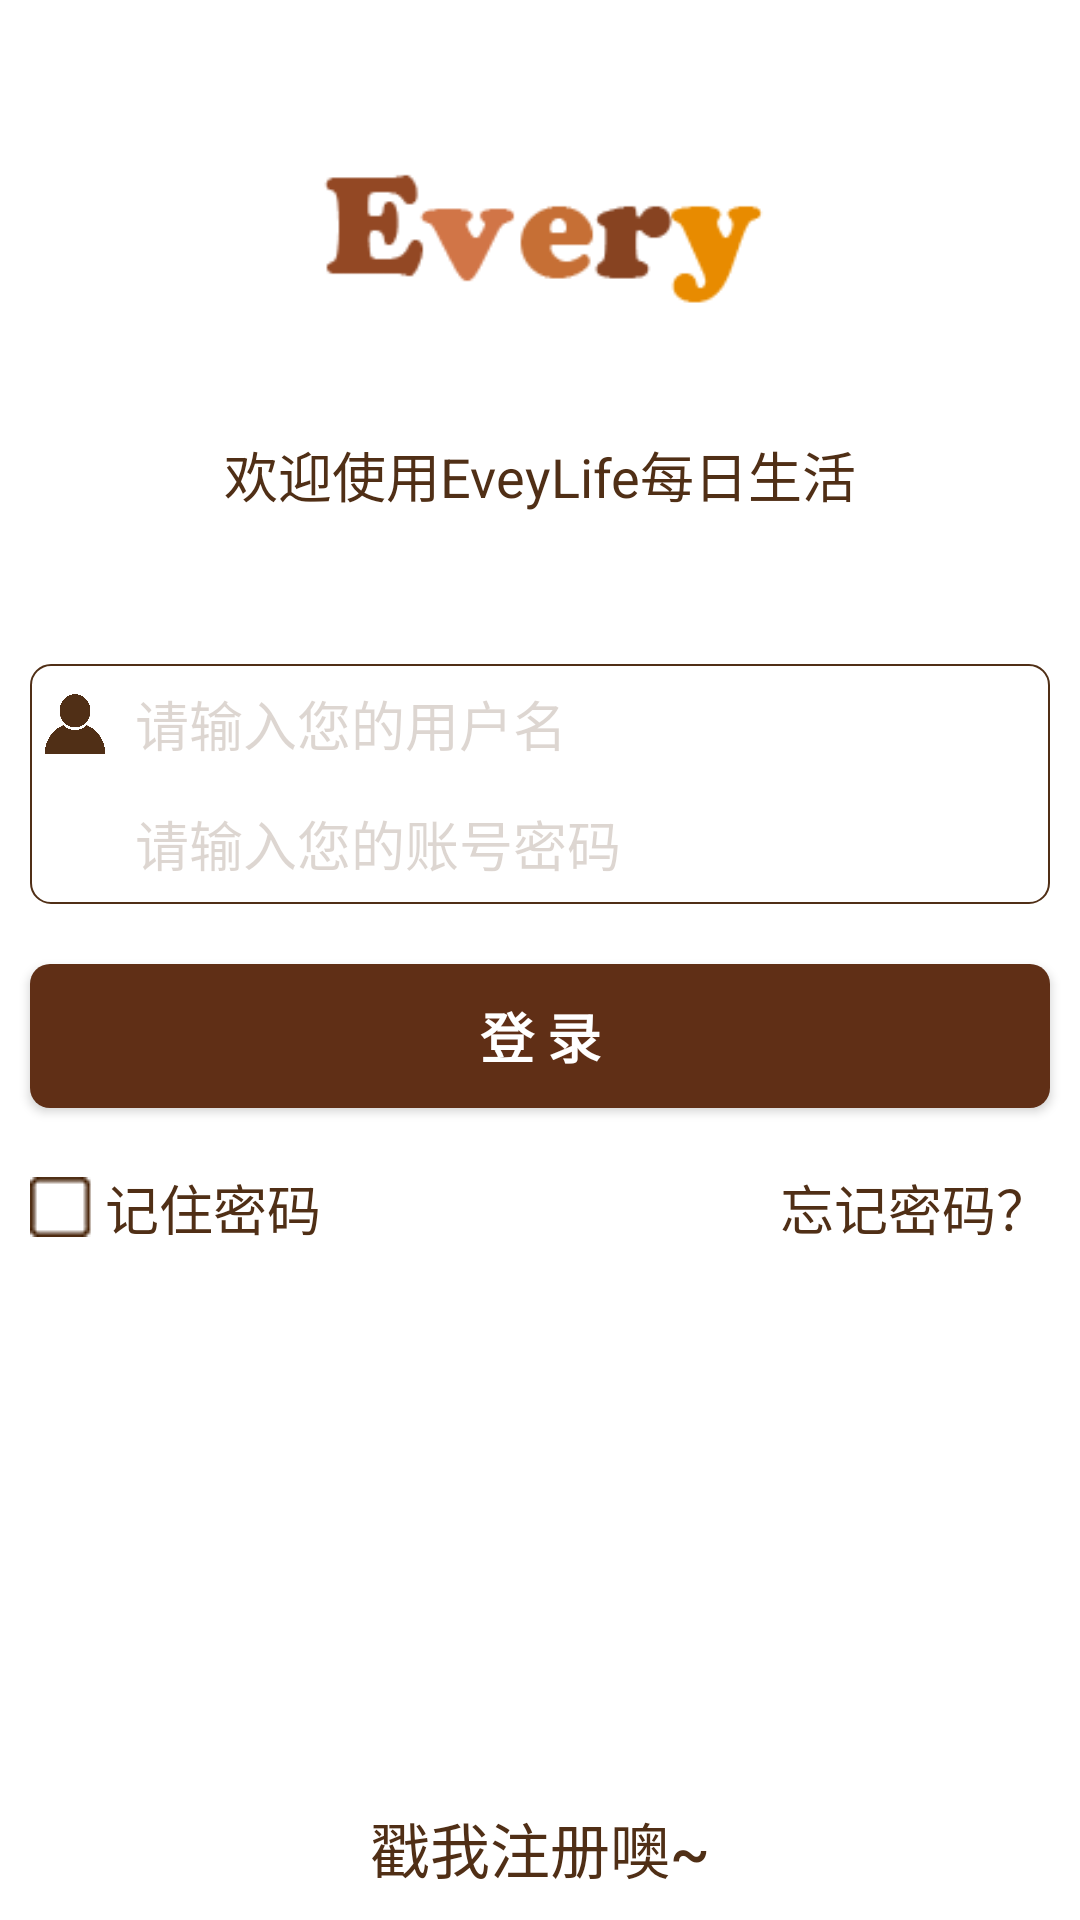

Screen size 1080 × 1920. Icon name, then its center in pixels as (x,y):
user log: (75,724)
